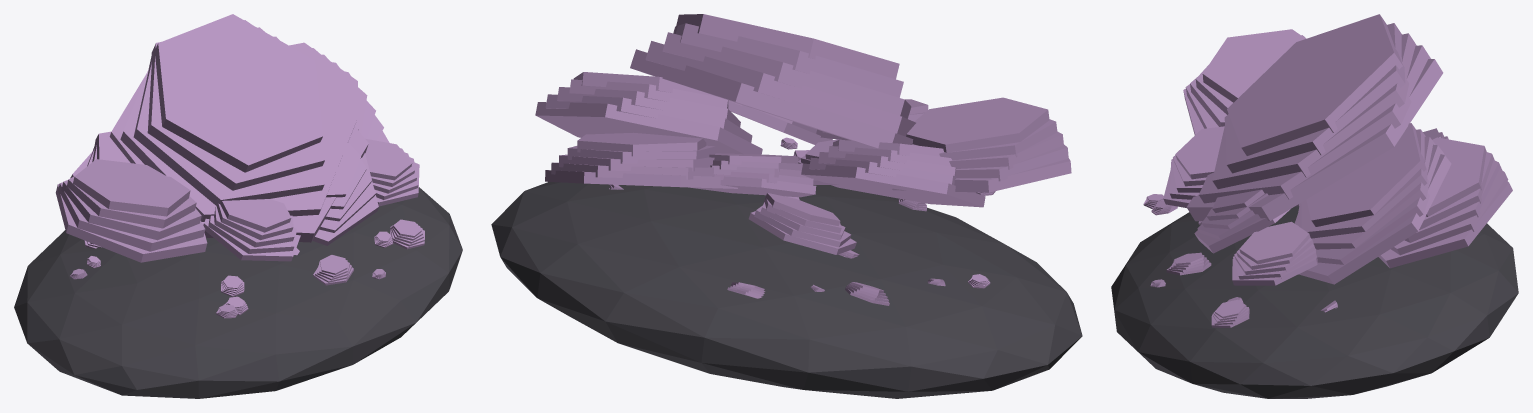
File: lepidolite.glb
The picture shows the model from 3 angles, left to right: view 1: azimuth 30°, elevation 25°; view 2: azimuth 150°, elevation 25°; view 3: azimuth 270°, elevation 25°; orthographic projection. The views are drawn at different scales.
Parts seen in each view (by area): view 1: Lepidolite (nhóm mica lithium); view 2: Lepidolite (nhóm mica lithium); view 3: Lepidolite (nhóm mica lithium).
Boxes of the visible parts, <box> form: Lepidolite (nhóm mica lithium): <box>14,14,462,398</box>; Lepidolite (nhóm mica lithium): <box>491,14,1082,398</box>; Lepidolite (nhóm mica lithium): <box>1111,14,1518,398</box>.
Size of the model in its own units: 3.96 by 2.57 by 3.03.
